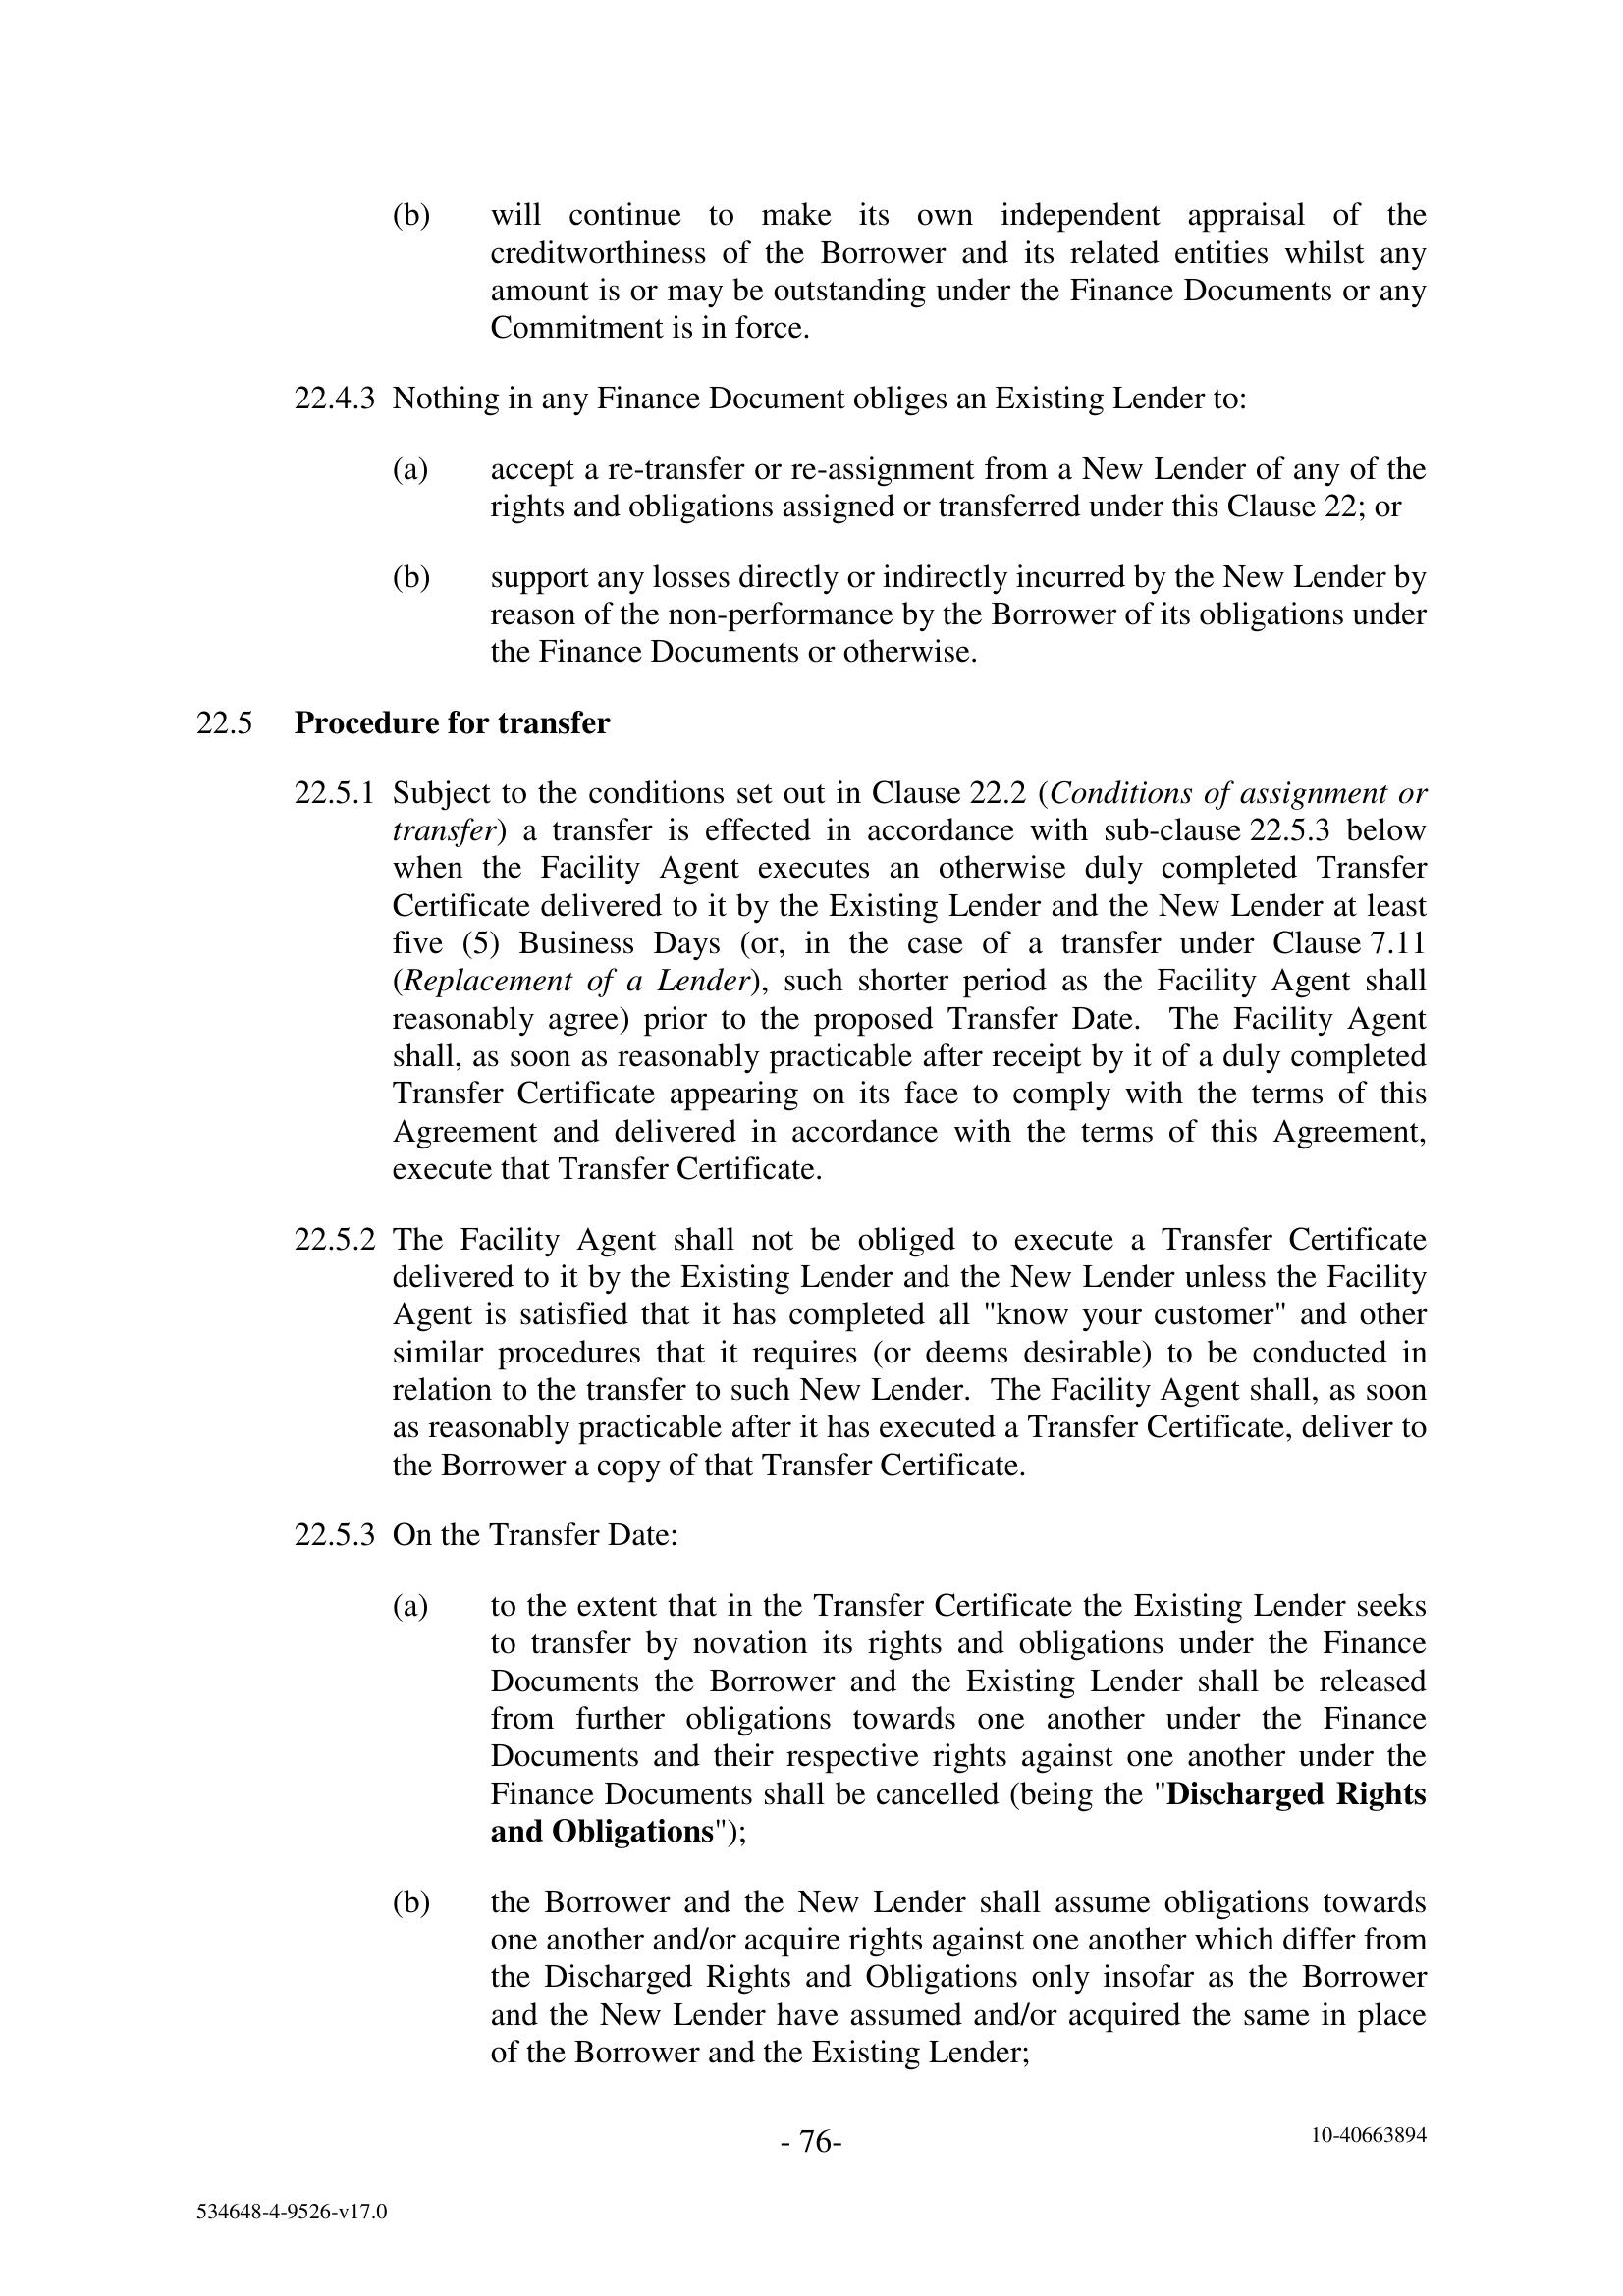pageno: (727, 2087, 898, 2226)
tag: (95, 2161, 480, 2273), (1165, 2082, 1560, 2187)
